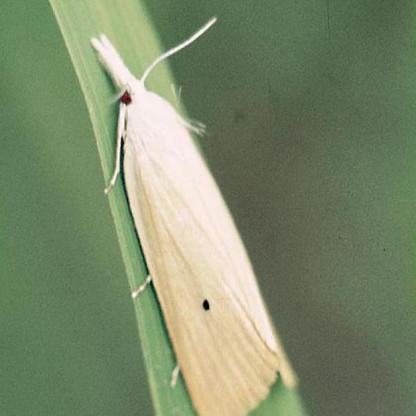stem-borer: (87, 28, 299, 416)
